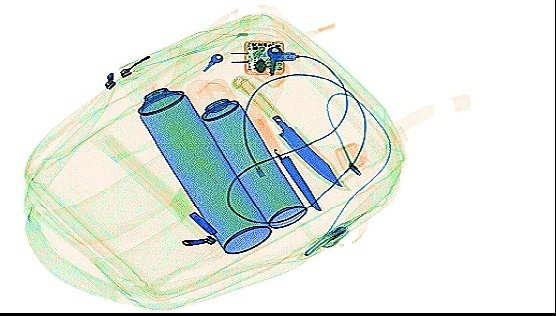knife: (227, 72, 353, 194), (240, 97, 325, 212)
pressure: (135, 83, 272, 255), (183, 76, 307, 228)
